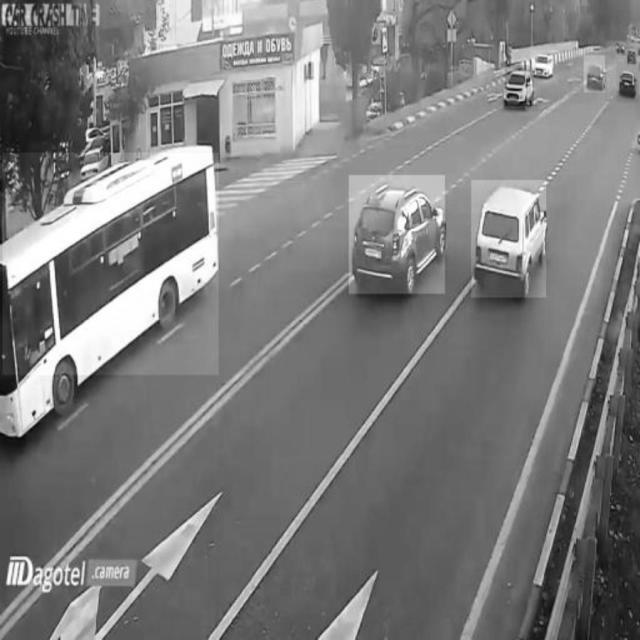vehicle: (3, 152, 219, 376), (349, 176, 445, 294), (471, 180, 545, 298), (506, 65, 532, 106), (530, 50, 558, 84), (616, 63, 638, 103), (584, 56, 604, 93)
